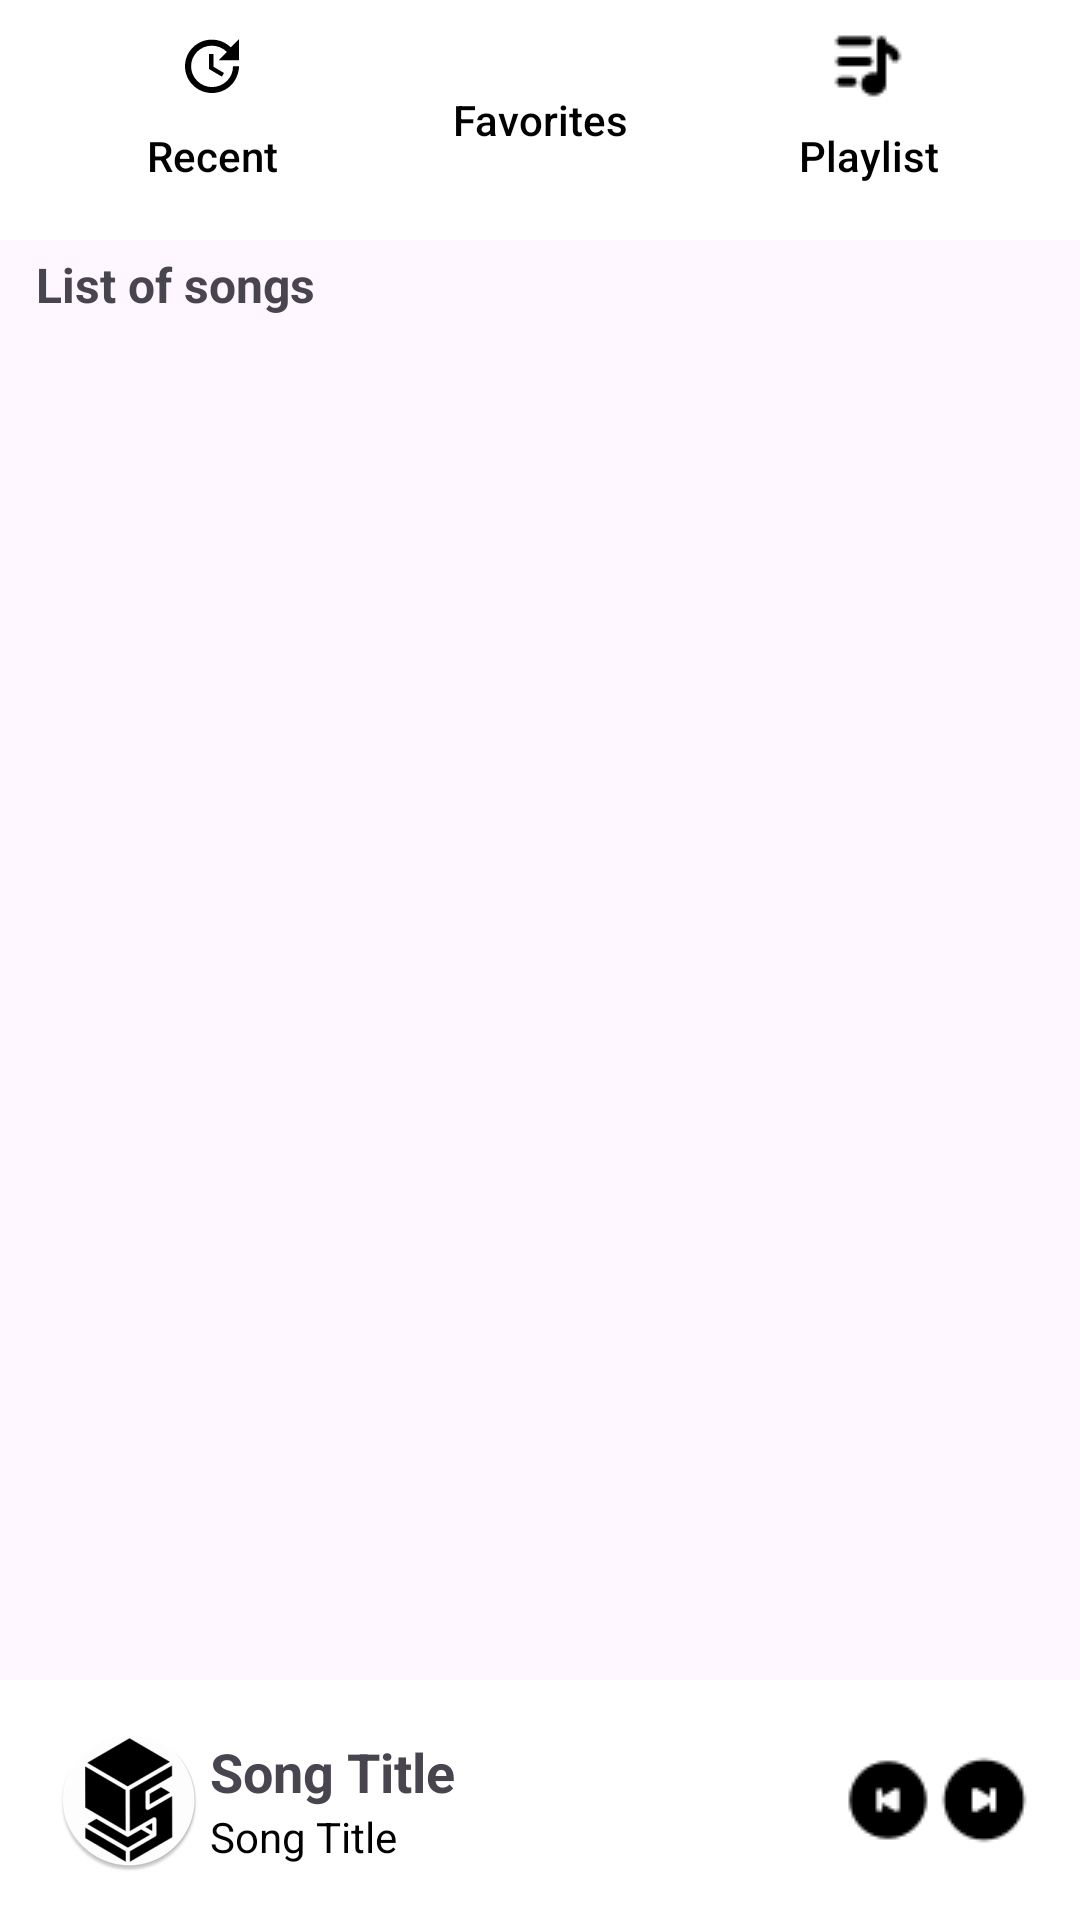

Named icons in this screenshot (1080px x 1920px) and their centers, (x=x, y=y):
Next Song: (x=984, y=1799)
Previous Song: (x=888, y=1800)
